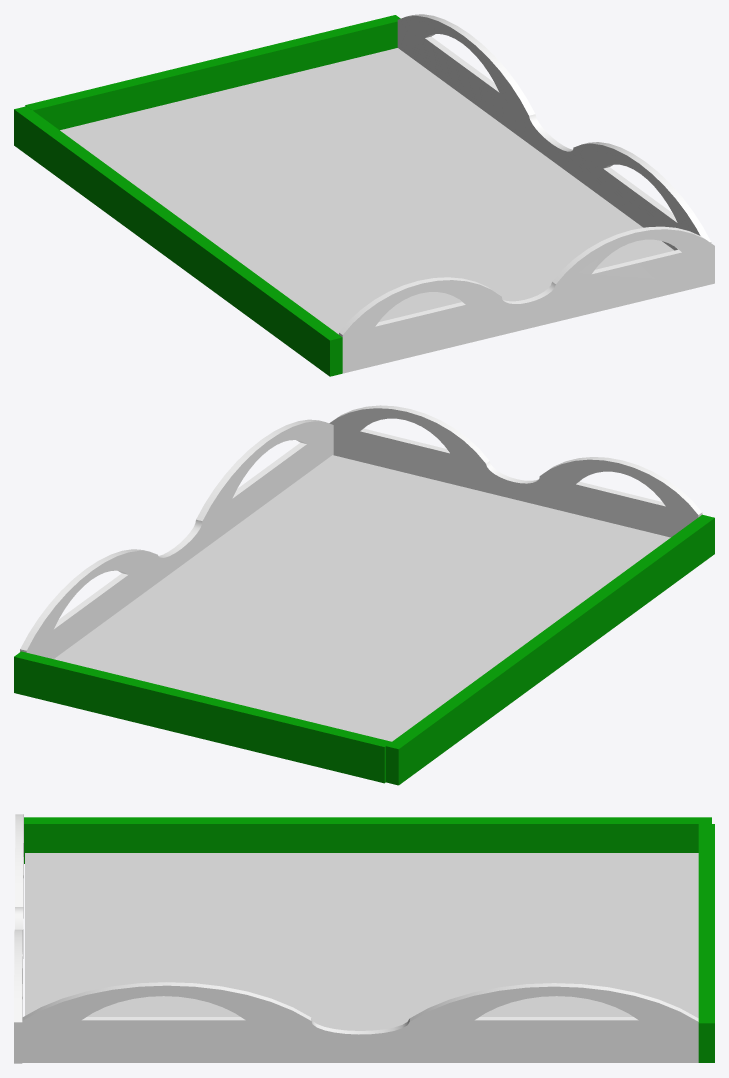
File: Perimeter.glb
The picture shows the model from 3 angles, top to bottom: view 1: azimuth 30°, elevation 25°; view 2: azimuth 150°, elevation 25°; view 3: azimuth 270°, elevation 25°; orthographic projection. The views are drawn at different scales.
Parts seen in each view (by area): view 1: Perimeter; view 2: Perimeter; view 3: Perimeter.
Part boxes in pixels (x1,y1,x2,y2): Perimeter: (14,14,714,376); Perimeter: (14,405,714,785); Perimeter: (14,814,714,1063).
Bounding box in the file's own units: 24.16 × 4.26 × 34.63.
